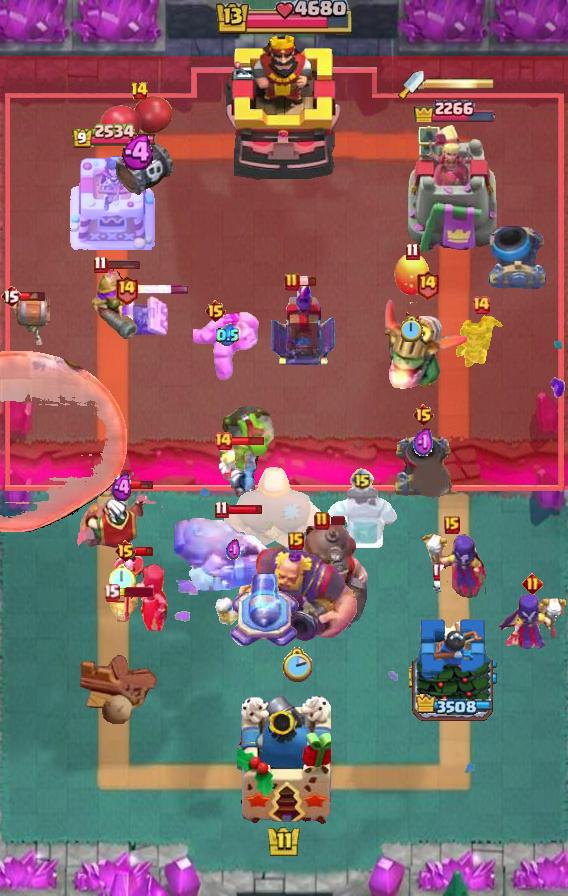axe: (418, 531, 486, 599), (498, 591, 566, 653)
balloon: (221, 465, 327, 555)
bar: (406, 122, 500, 256)
bar-level: (219, 403, 277, 475)
bomb-tower: (86, 265, 142, 343)
bomber-evolution: (455, 311, 510, 373)
clock: (213, 0, 355, 38)
electro-spirit: (122, 135, 159, 169), (111, 473, 134, 504), (414, 427, 435, 459), (216, 324, 239, 348), (227, 538, 241, 561)
elixir: (281, 646, 312, 681), (109, 562, 136, 593), (401, 316, 423, 342)
emote: (137, 285, 190, 296), (118, 478, 154, 491), (105, 258, 141, 270), (12, 290, 48, 302), (231, 435, 266, 447), (228, 504, 265, 515), (117, 587, 153, 597), (327, 514, 347, 525), (134, 546, 154, 557), (298, 276, 317, 287)
goblin-brawler: (117, 289, 169, 339)
heal-spirit: (213, 597, 247, 629)
hog: (392, 253, 432, 297)
ice-spirit-evolution: (103, 591, 141, 623)
ice-spirit-evolution-symbol: (268, 281, 336, 367)
king-tower: (226, 33, 342, 181), (237, 696, 331, 826)
king-tower-bar: (424, 77, 496, 91)
knight: (0, 294, 50, 348)
lightning: (234, 545, 359, 643)
mortar-evolution: (217, 439, 259, 497)
musketeer: (392, 432, 454, 500), (488, 225, 548, 289)
night-witch: (383, 296, 471, 392)
phoenix-egg: (0, 350, 128, 534)
queen-tower: (409, 616, 497, 731), (67, 152, 161, 256)
rage: (324, 480, 400, 548)
rascal-boy: (111, 553, 171, 637)
royal-recruit: (227, 569, 301, 653)
royal-recruit-evolution: (100, 94, 178, 200)
selected: (411, 94, 495, 122), (71, 123, 157, 150), (414, 694, 494, 716)
skeleton-king: (74, 485, 170, 553)
text: (415, 268, 440, 299), (114, 275, 138, 306), (350, 468, 374, 492), (114, 539, 138, 563), (205, 299, 228, 323), (413, 403, 436, 427), (0, 284, 22, 308), (522, 574, 543, 595), (130, 81, 150, 101), (471, 295, 491, 315), (213, 431, 233, 451), (103, 582, 121, 601), (284, 272, 300, 292), (314, 511, 330, 531), (444, 516, 460, 534), (288, 532, 304, 550), (92, 255, 107, 273), (215, 500, 229, 519), (405, 243, 419, 261)
valkyrie-evolution: (193, 310, 261, 382)
wizard: (170, 513, 296, 591), (299, 520, 369, 630)
